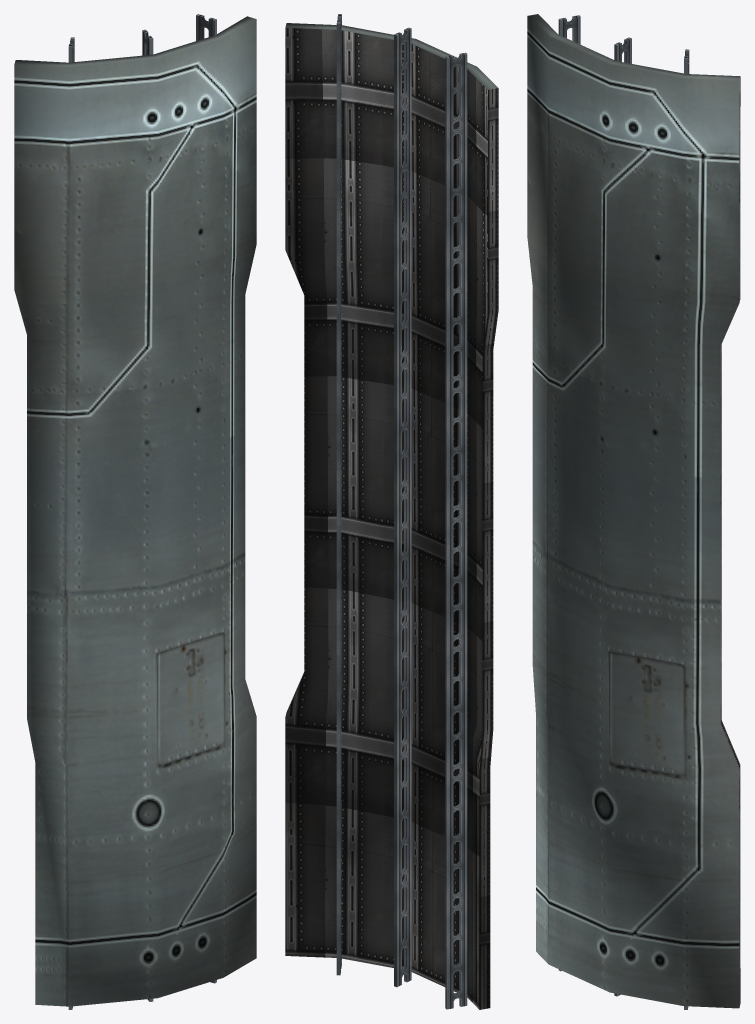
The model's file is Panel_ContainerPiece2.fbx.
3 views of the same model, side by side, from view 1: azimuth 30°, elevation 25°; view 2: azimuth 150°, elevation 25°; view 3: azimuth 330°, elevation 25° (orthographic).
Parts seen in each view (by area): view 1: Panel_Container_piece2; view 2: Panel_Container_piece2; view 3: Panel_Container_piece2.
Part boxes in pixels (x1,y1,x2,y2): Panel_Container_piece2: [14, 14, 256, 1009]; Panel_Container_piece2: [285, 14, 498, 1009]; Panel_Container_piece2: [527, 14, 740, 1009].
Bounding box in the file's own units: 234 × 941 × 61.56.
